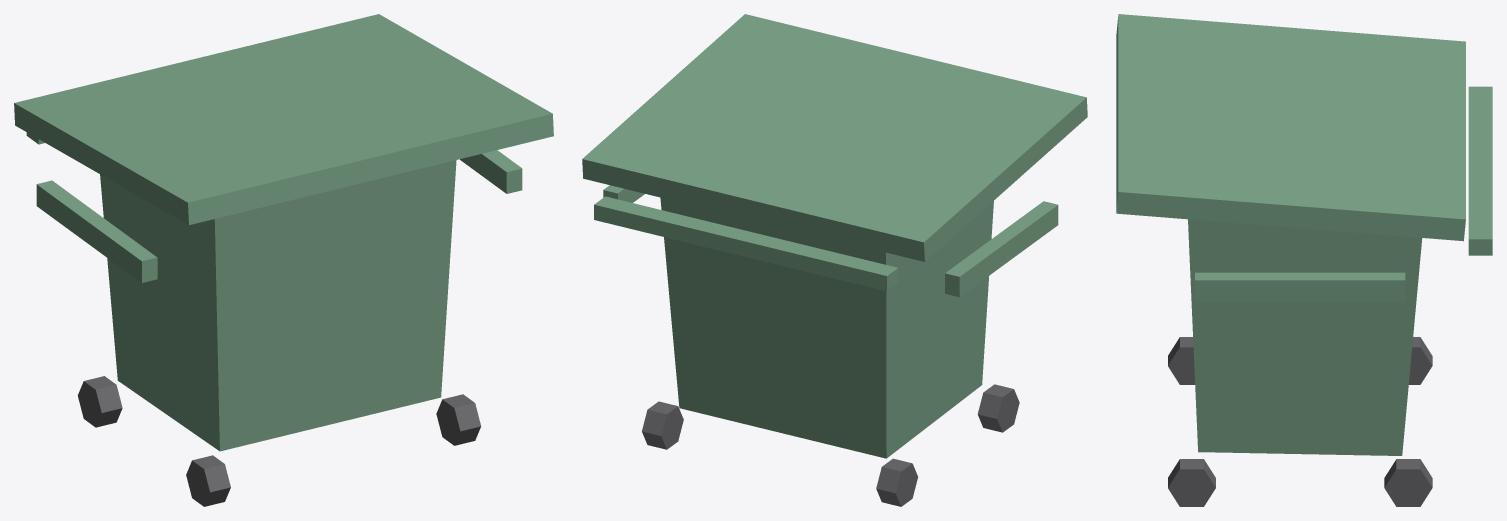
The model's file is dumpster.glb.
The picture shows the model from 3 angles, left to right: view 1: azimuth 30°, elevation 25°; view 2: azimuth 150°, elevation 25°; view 3: azimuth 270°, elevation 25°; orthographic projection. The views are drawn at different scales.
Visible parts, largest first — view 1: dumpster, wheels; view 2: dumpster, wheels; view 3: dumpster, wheels.
Part boxes in pixels (x1,y1,x2,y2): dumpster: (14,14,553,451); wheels: (77,376,481,506); dumpster: (582,14,1087,458); wheels: (642,384,1019,506); dumpster: (1116,14,1492,455); wheels: (1168,337,1432,506).
Size of the model in its own units: 1.46 by 1.24 by 1.25.
